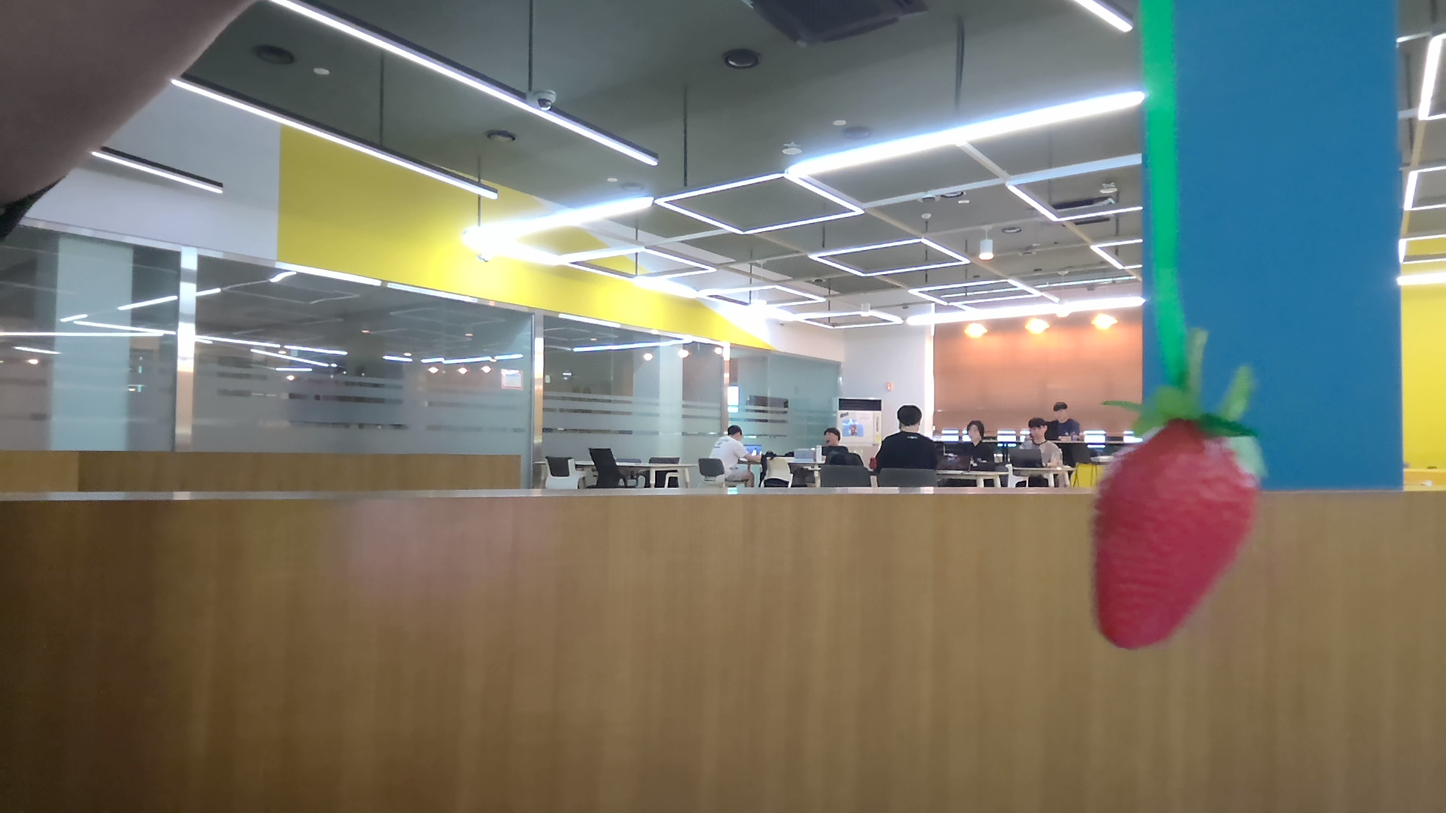strawberry: (1073, 416, 1273, 650)
